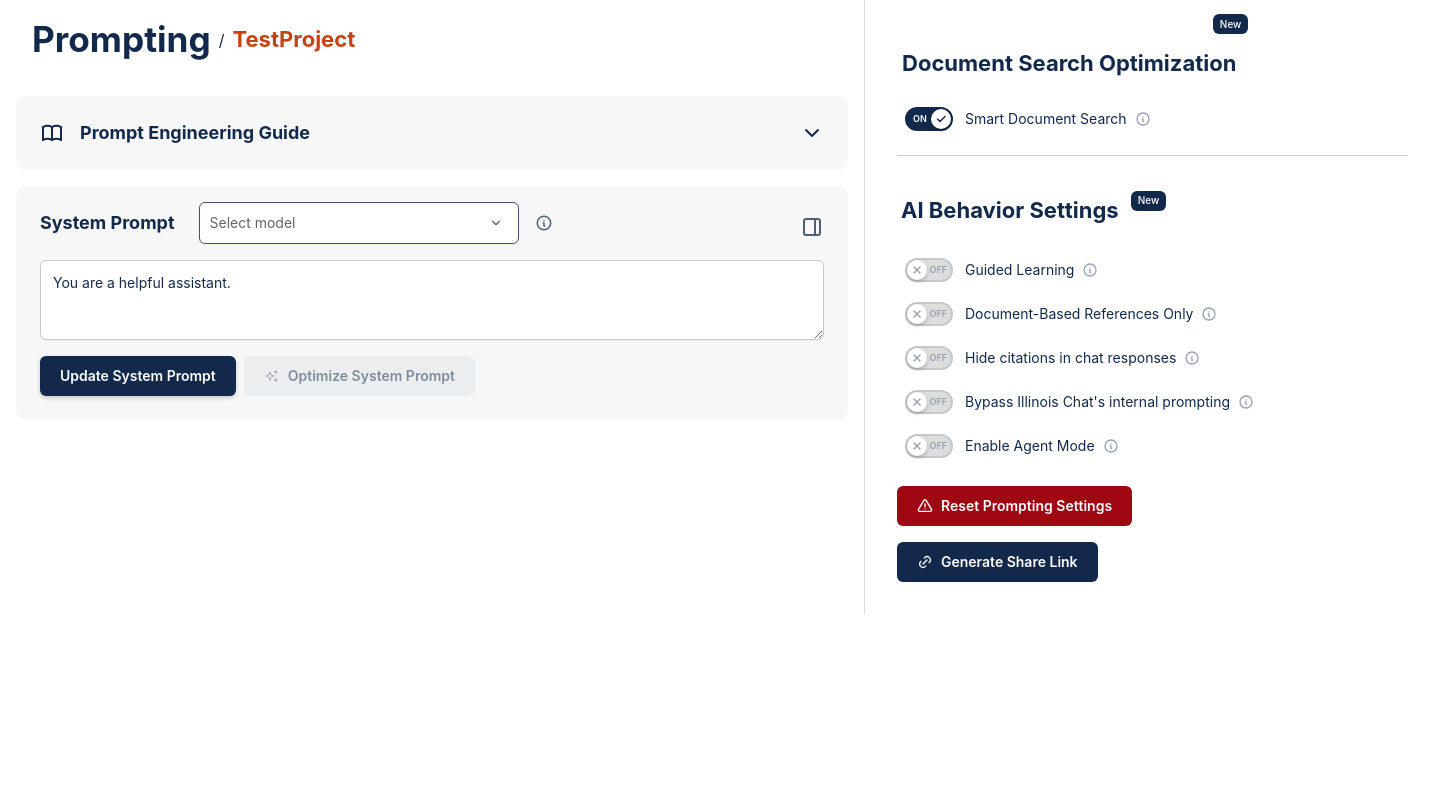
Test: PromptEditor › Sidebar toggle (non-embedded mode) › hides sidebar when Close Prompt Builder button is clicked
The image size is (1440, 810).
Expected: the heading "Document Search Optimization" is shown, x1=902 y1=50 x2=1236 y2=76
Click the button named "Close Prompt Builder" at (808, 227), box x1=792 y1=215 x2=824 y2=239
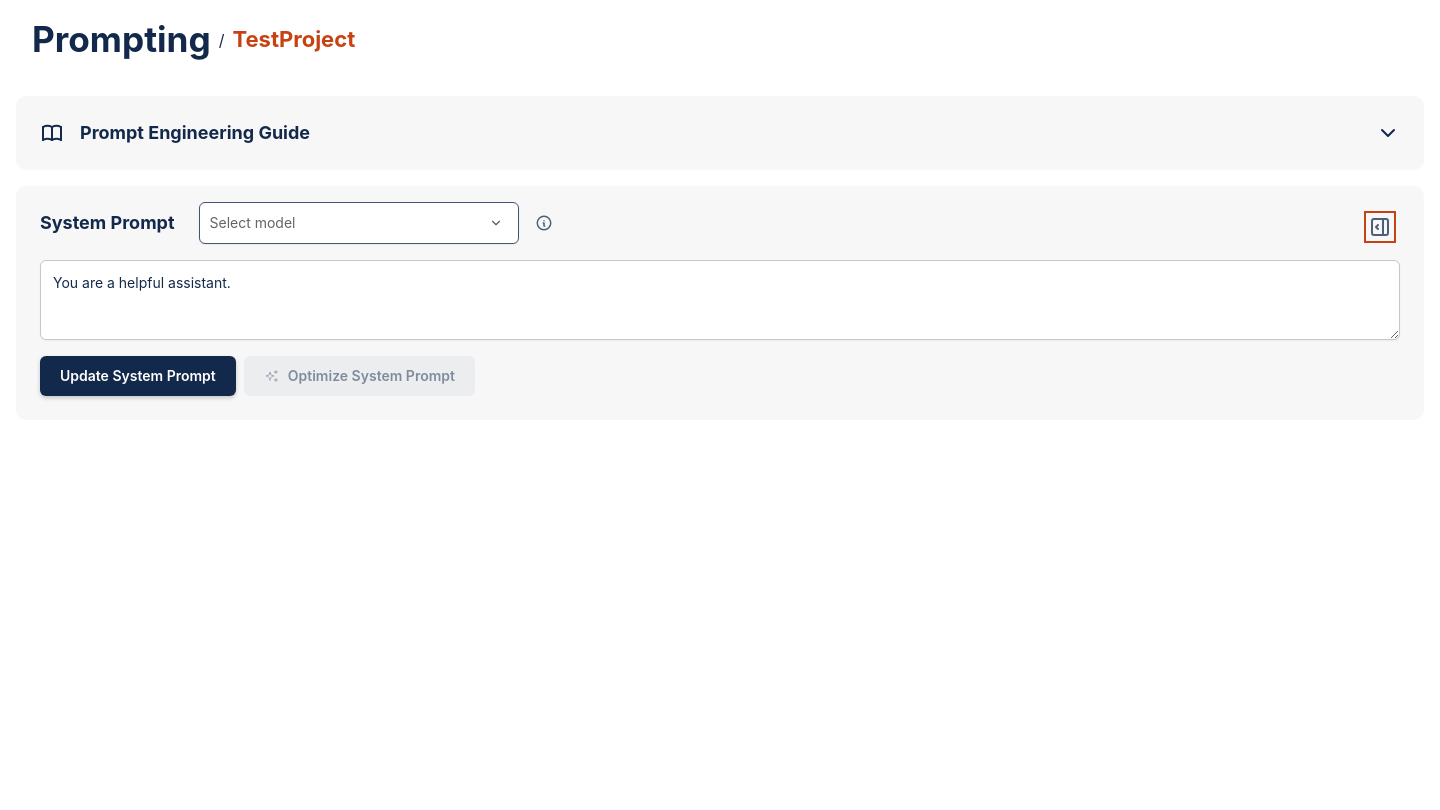
Expected: the heading "Document Search Optimization" is gone
